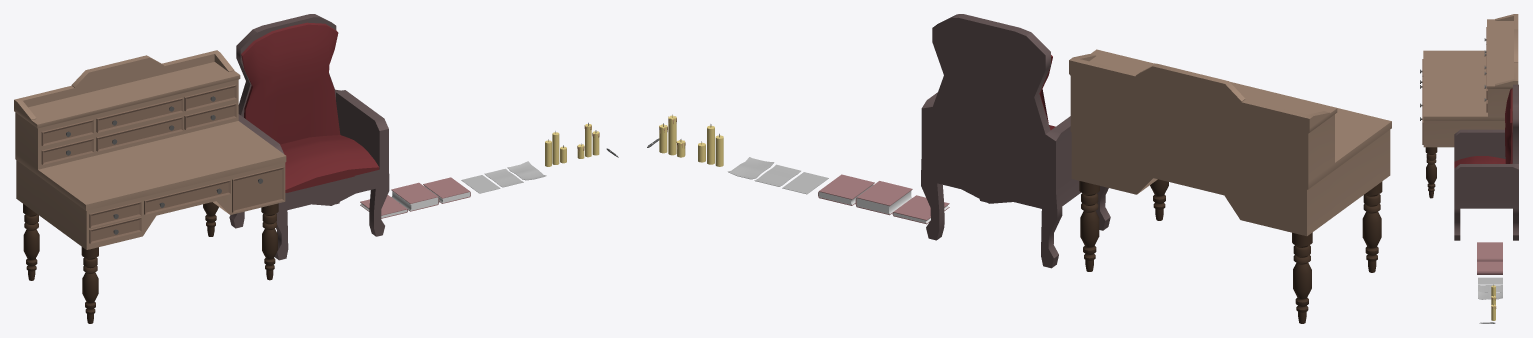
Rendered from StudyRoomAssets.fbx.
3 renders of one model, left to right at view 1: azimuth 30°, elevation 25°; view 2: azimuth 150°, elevation 25°; view 3: azimuth 270°, elevation 25°, orthographic. The views are drawn at different scales.
Parts seen in each view (by area): view 1: Desk_Start:Desk_Body, Armchair_Modeled:Armchair_Cushion, Armchair_Modeled:Armchair_Body, Desk_Start:Drawer_10, Desk_Start:Drawer_2, Desk_Start:Drawer_3, Desk_Start:Drawer_1, Desk_Start:Desk_Leg4, Desk_Start:Desk_Leg1, Desk_Start:Desk_Leg3, Books_Modeled:Book_3, Desk_Start:Drawer_8 (+7 smaller); view 2: Desk_Start:Desk_Body, Armchair_Modeled:Armchair_Body, Desk_Start:Desk_Leg2, Desk_Start:Desk_Leg3, Desk_Start:Desk_Leg4, Books_Modeled:Book_3, Books_Modeled:Book_1, Books_Modeled:Book_2, Papers:Bent_Paper, Papers:Straight_Paper, Papers:Slightly_Bent_Paper; view 3: Desk_Start:Desk_Body, Armchair_Modeled:Armchair_Body, Armchair_Modeled:Armchair_Cushion, Desk_Start:Desk_Leg1, Books_Modeled:Book_1, Books_Modeled:Book_3, Books_Modeled:Book_2, Papers:Straight_Paper, Papers:Bent_Paper, Papers:Slightly_Bent_Paper.
Part boxes in pixels (x1,y1,x2,y2): Desk_Start:Desk_Body: [14, 50, 286, 249]; Armchair_Modeled:Armchair_Cushion: [241, 22, 379, 192]; Armchair_Modeled:Armchair_Body: [229, 14, 389, 260]; Desk_Start:Drawer_10: [232, 167, 284, 212]; Desk_Start:Drawer_2: [96, 97, 183, 132]; Desk_Start:Drawer_3: [96, 116, 183, 151]; Desk_Start:Drawer_1: [144, 180, 230, 214]; Desk_Start:Desk_Leg4: [81, 247, 98, 323]; Desk_Start:Desk_Leg1: [261, 203, 278, 280]; Desk_Start:Desk_Leg3: [23, 204, 39, 280]; Books_Modeled:Book_3: [391, 182, 439, 211]; Desk_Start:Drawer_8: [184, 84, 236, 111]; Desk_Start:Desk_Body: [1069, 49, 1391, 236]; Armchair_Modeled:Armchair_Body: [921, 14, 1110, 268]; Desk_Start:Desk_Leg2: [1079, 181, 1099, 271]; Desk_Start:Desk_Leg3: [1292, 232, 1312, 323]; Desk_Start:Desk_Leg4: [1362, 181, 1382, 272]; Books_Modeled:Book_3: [855, 181, 912, 215]; Books_Modeled:Book_1: [818, 174, 874, 205]; Books_Modeled:Book_2: [892, 195, 949, 224]; Papers:Bent_Paper: [728, 157, 774, 179]; Papers:Straight_Paper: [782, 172, 828, 194]; Papers:Slightly_Bent_Paper: [754, 164, 800, 186]; Desk_Start:Desk_Body: [1423, 14, 1518, 147]; Armchair_Modeled:Armchair_Body: [1454, 84, 1518, 240]; Armchair_Modeled:Armchair_Cushion: [1454, 88, 1512, 168]; Desk_Start:Desk_Leg1: [1425, 147, 1437, 198]; Books_Modeled:Book_1: [1477, 261, 1502, 274]; Books_Modeled:Book_3: [1477, 249, 1502, 261]; Books_Modeled:Book_2: [1477, 242, 1502, 249]; Papers:Straight_Paper: [1478, 277, 1502, 284]; Papers:Bent_Paper: [1478, 291, 1502, 299]; Papers:Slightly_Bent_Paper: [1478, 285, 1502, 292].
Bounding box in the file's own units: 58.6 × 18.68 × 12.87.
